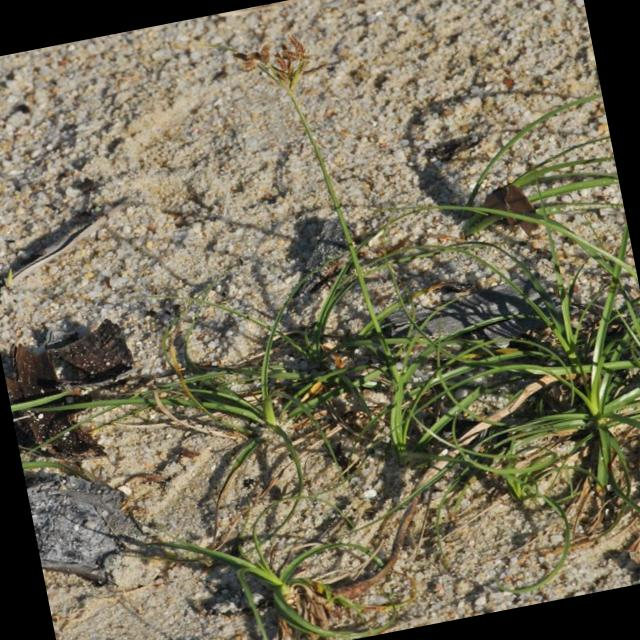cyperus: (225, 26, 331, 101)
